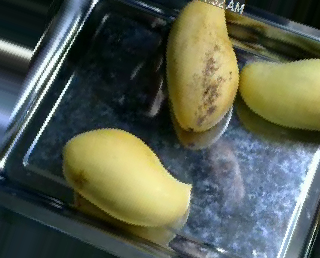Mango: (62, 126, 199, 235), (154, 2, 254, 142), (235, 46, 320, 139)
